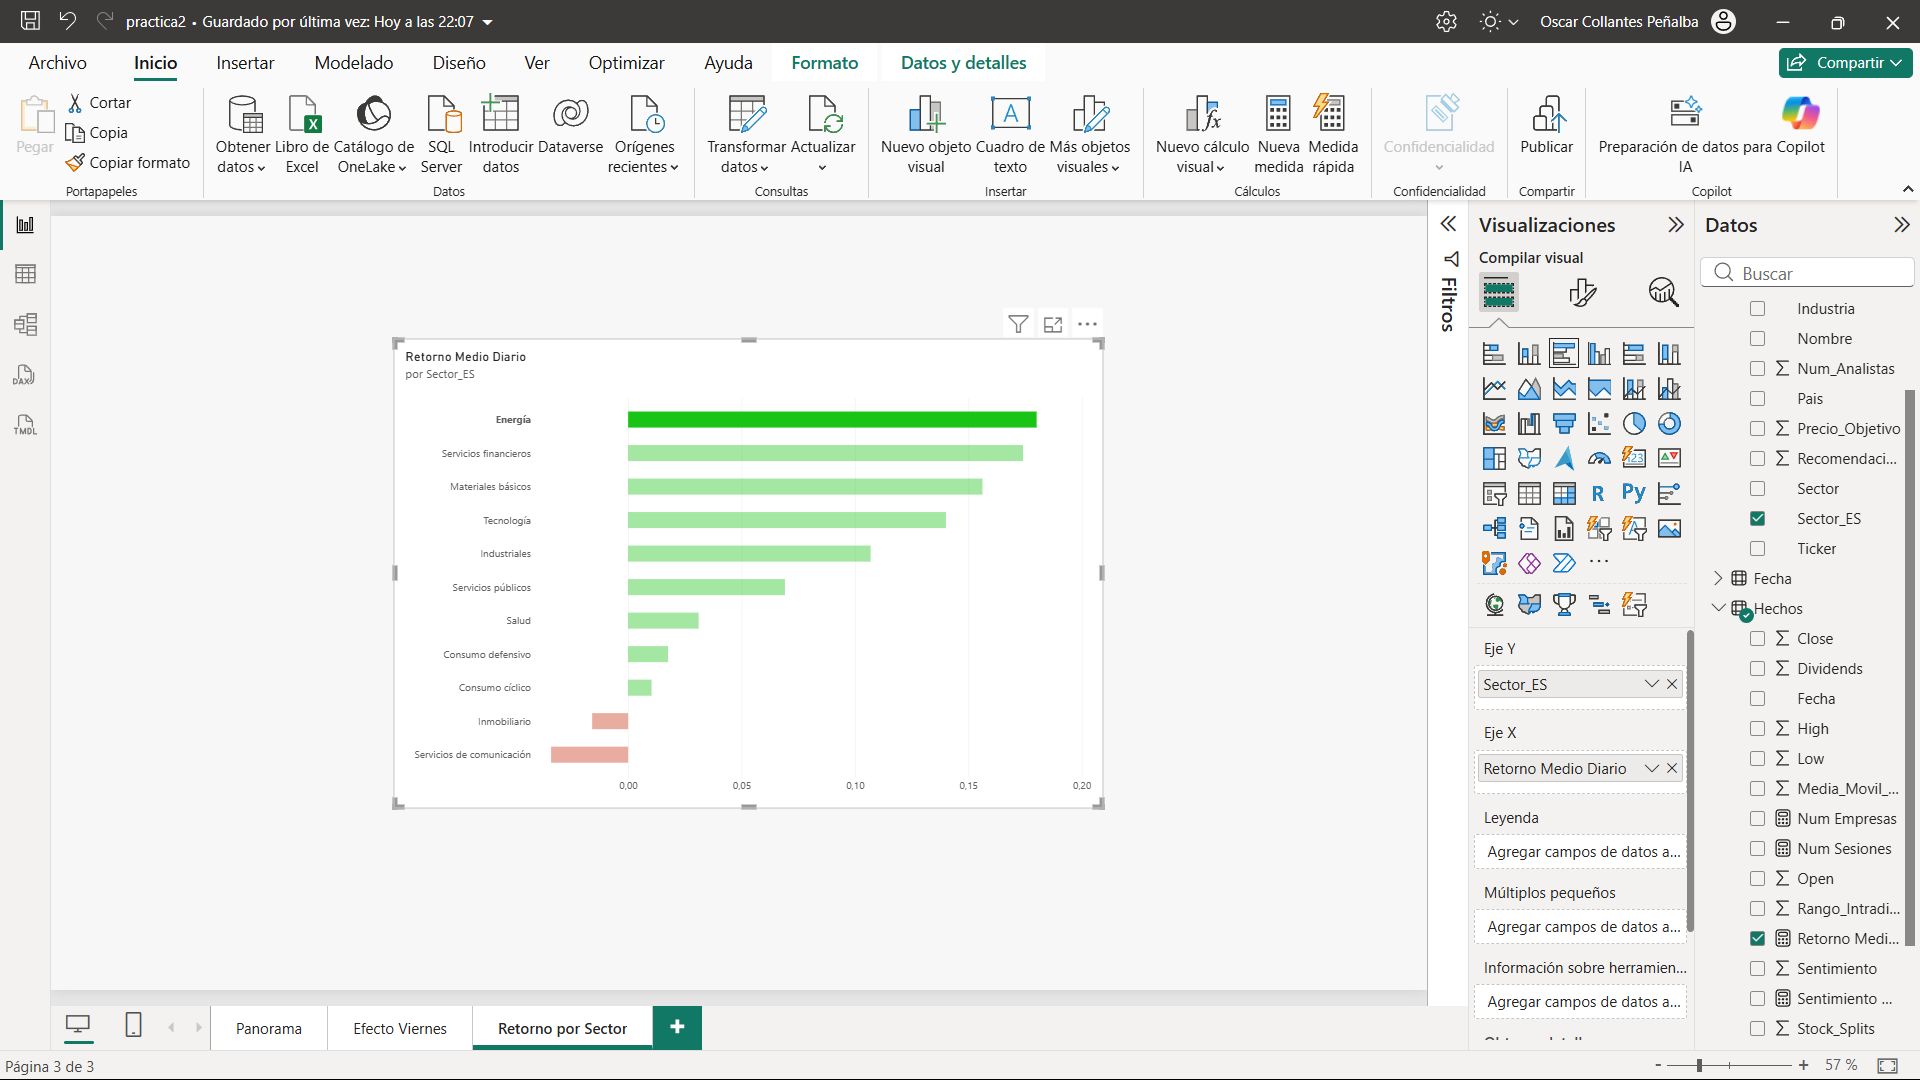

The dashboard page shown, as its layout file describes it:
{"tool":"powerbi","page":{"name":"Retorno por Sector","canvas":[1920,1080],"ordinal":2},"visuals":[{"type":"clusteredBarChart","fields":{"Category":["Empresa.Sector_ES"],"Y":["Hechos.Retorno Medio Diario"]},"box":[477.9,170.9,990.7,655.8],"z":0}]}

Visuals, with their boxes on the page's 1920x1080 design canvas (x1, y1, x2, y2). These are canvas units, not pixel positions in the 1920x1080 screenshot, which may show the page scaled, cropped or inside an application window:
clusteredBarChart - Empresa.Sector_ES x Hechos.Retorno Medio Diario: x1=478, y1=171, x2=1469, y2=827
